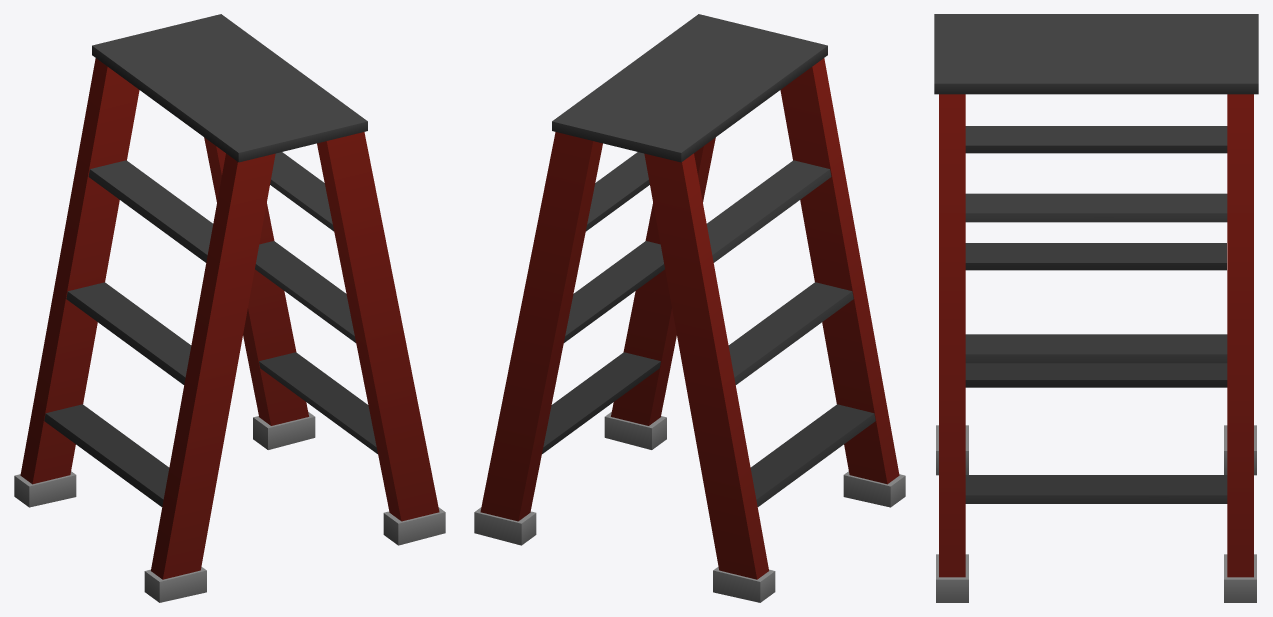
The model's file is Prop_Ladder_02.obj.
3 views of the same model, side by side, from view 1: azimuth 30°, elevation 25°; view 2: azimuth 150°, elevation 25°; view 3: azimuth 270°, elevation 25° (orthographic). The views are drawn at different scales.
Visible parts, largest first — view 1: Prop_Ladder_02; view 2: Prop_Ladder_02; view 3: Prop_Ladder_02.
Boxes of the visible parts, left/top/right/bottom form: Prop_Ladder_02: left=14, top=14, right=445, bottom=602; Prop_Ladder_02: left=474, top=14, right=905, bottom=602; Prop_Ladder_02: left=934, top=14, right=1258, bottom=602.
Size of the model in its own units: 0.9 by 1.3 by 0.8.
Materials: 1 (1 with a texture image).
